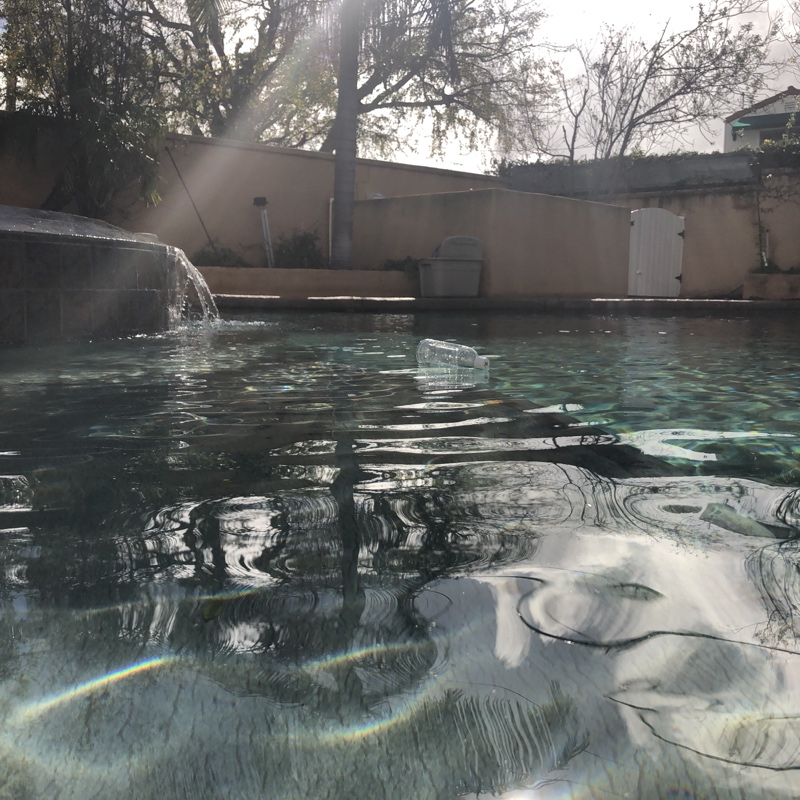Plastic Bottle: (416, 336, 490, 377)
